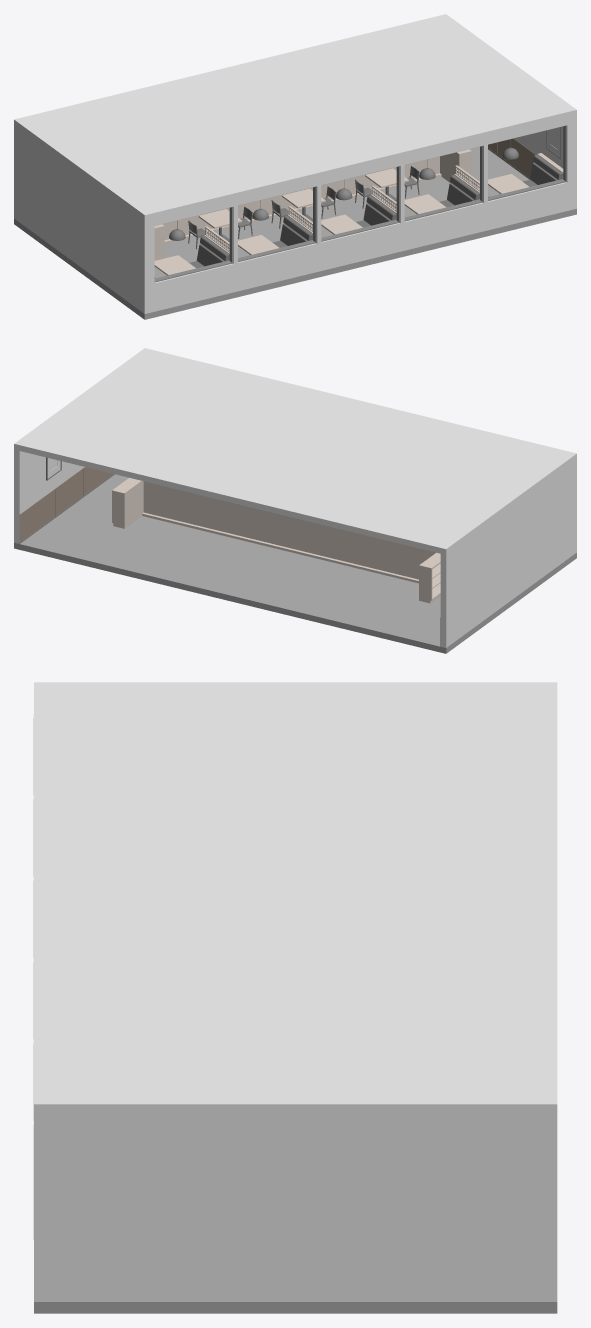
The picture shows the model from 3 angles, top to bottom: view 1: azimuth 30°, elevation 25°; view 2: azimuth 150°, elevation 25°; view 3: azimuth 270°, elevation 25°; orthographic projection. The views are drawn at different scales.
Bounding box in the file's own units: 1555 × 360 × 816.
